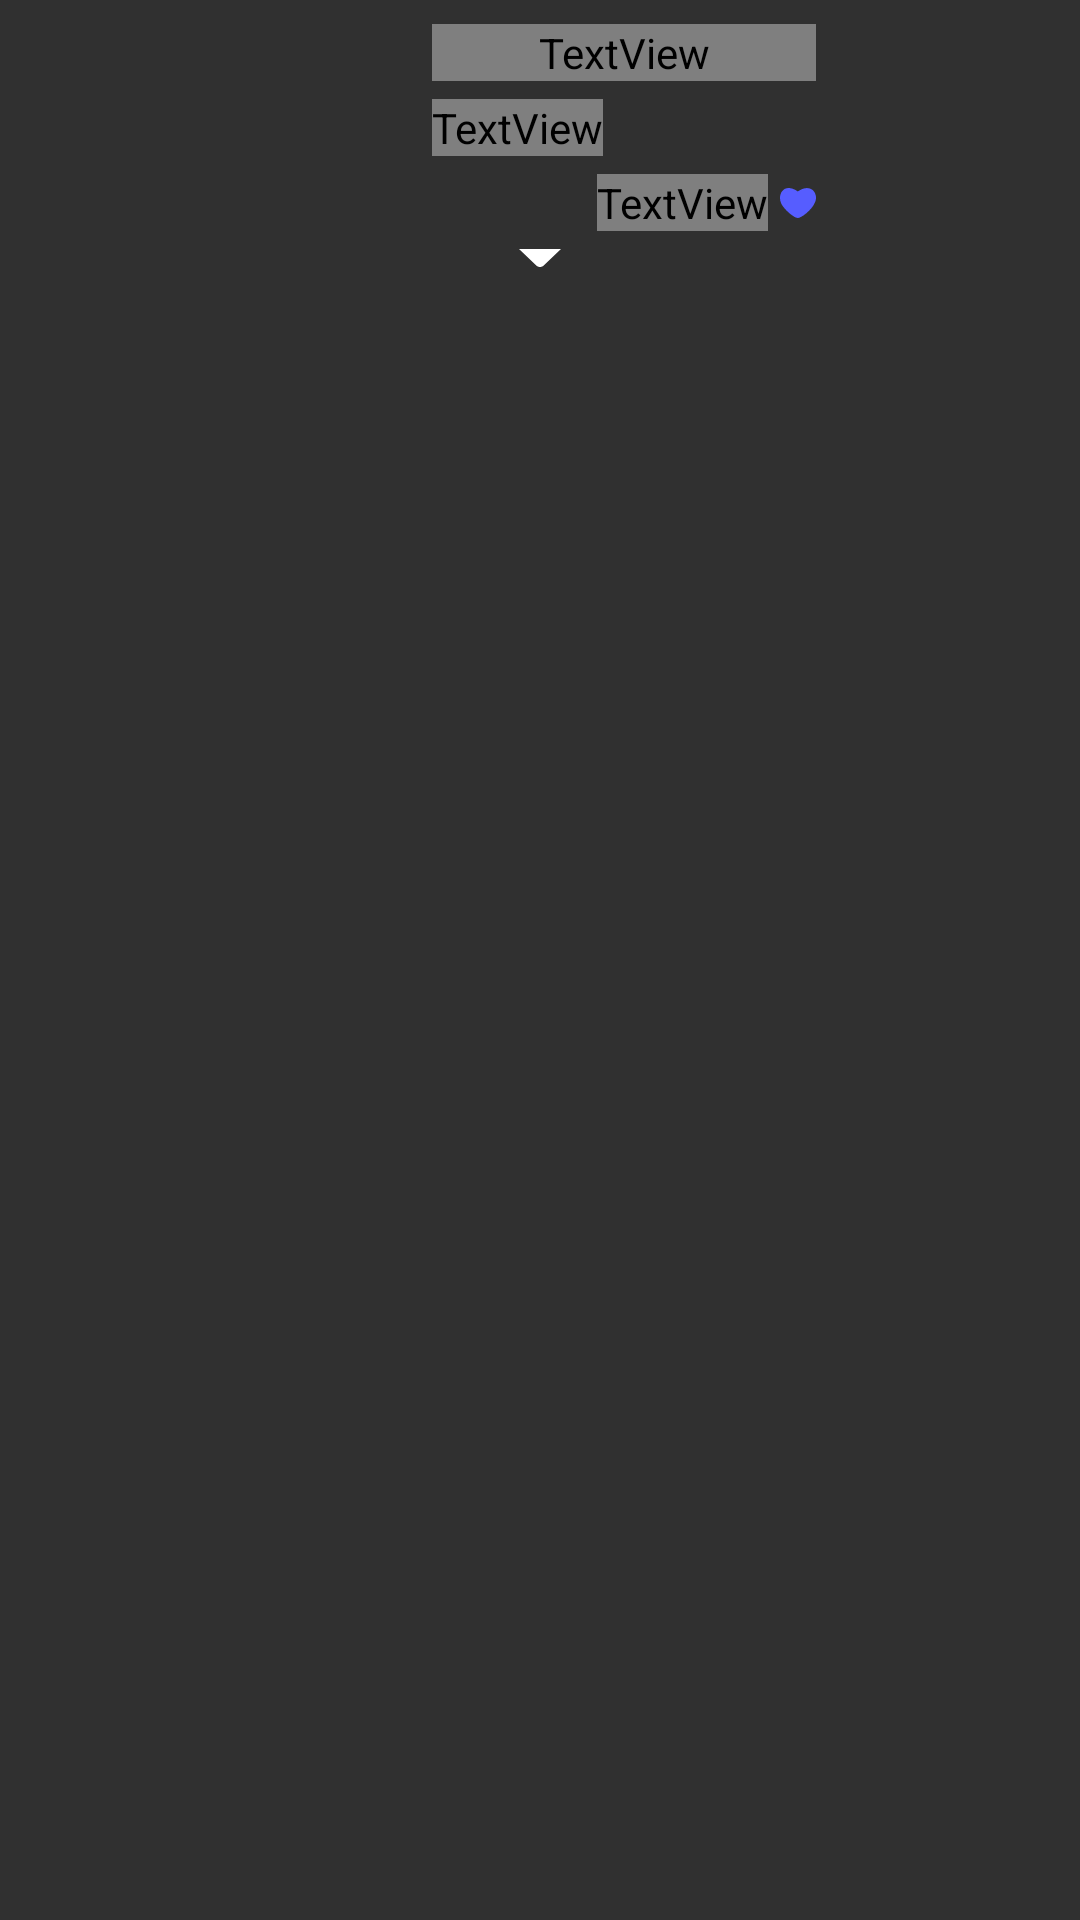

Locate icon controls on the screen. Image size 1080x1920, boxes as Rect(x1, y1, x2, y2).
like: Rect(780, 188, 816, 218)
